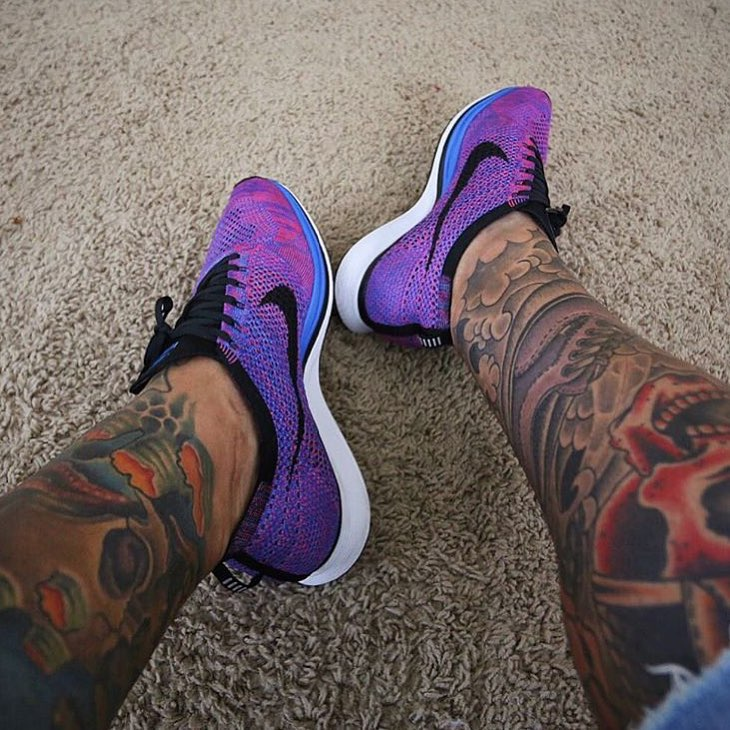sneaker: (110, 164, 397, 603), (316, 70, 580, 364)
